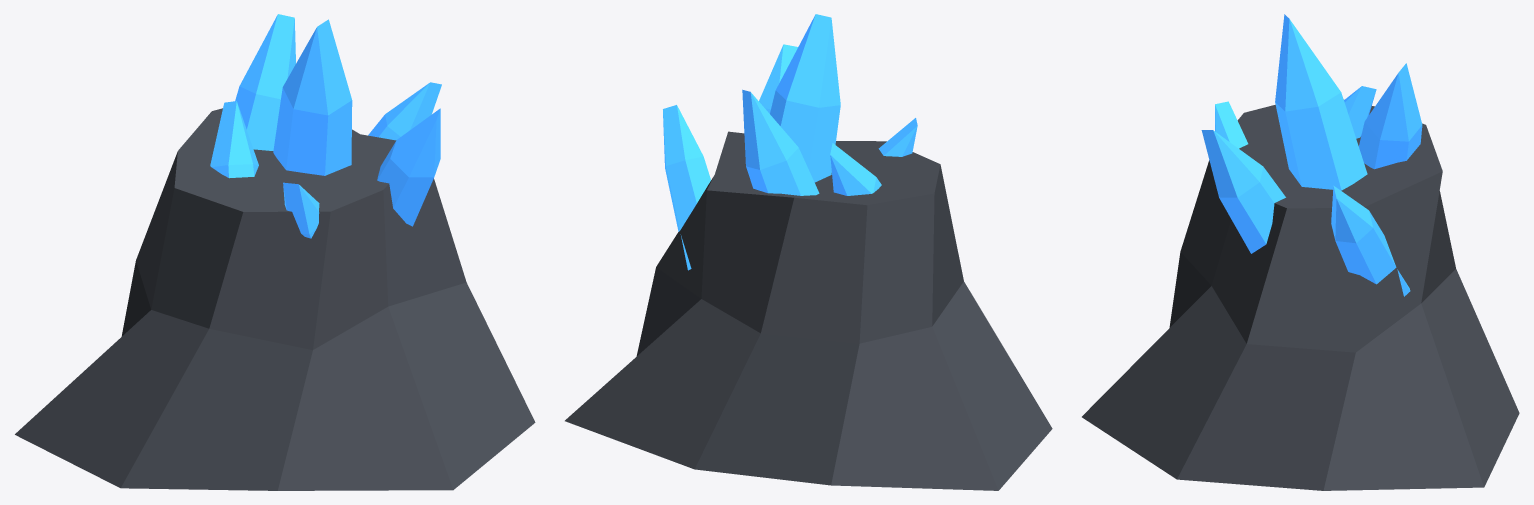
The model's file is PROP_11_CrystalRock.fbx.
The picture shows the model from 3 angles, left to right: view 1: azimuth 30°, elevation 25°; view 2: azimuth 150°, elevation 25°; view 3: azimuth 270°, elevation 25°; orthographic projection. The views are drawn at different scales.
Parts seen in each view (by area): view 1: PROP_11_CrystalRock; view 2: PROP_11_CrystalRock; view 3: PROP_11_CrystalRock.
Part boxes in pixels (left/top/right/bottom): PROP_11_CrystalRock: left=15, top=14, right=535, bottom=490; PROP_11_CrystalRock: left=565, top=14, right=1052, bottom=490; PROP_11_CrystalRock: left=1082, top=14, right=1519, bottom=490.
Size of the model in its own units: 199 by 177 by 181.
